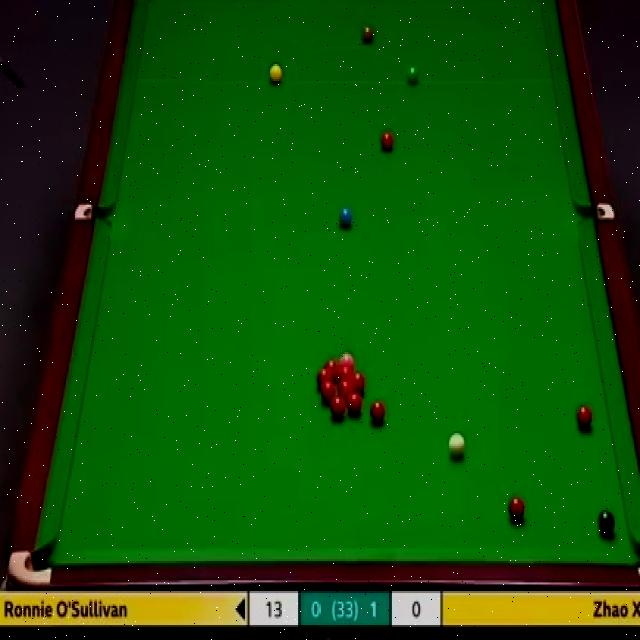black-ball: (597, 507, 615, 537)
blue-ball: (337, 207, 353, 230)
brown-ball: (362, 26, 375, 41)
green-ball: (406, 64, 420, 84)
pink-ball: (339, 354, 355, 364)
red-ball: (508, 496, 525, 520), (347, 391, 362, 415), (370, 401, 386, 423), (577, 405, 592, 427), (330, 396, 345, 418), (320, 382, 334, 404), (353, 372, 367, 394), (381, 130, 394, 153), (324, 358, 339, 376), (314, 368, 330, 382), (340, 363, 352, 379), (338, 382, 353, 393)
white-ball: (448, 436, 465, 462)
yellow-ball: (268, 62, 282, 84)
